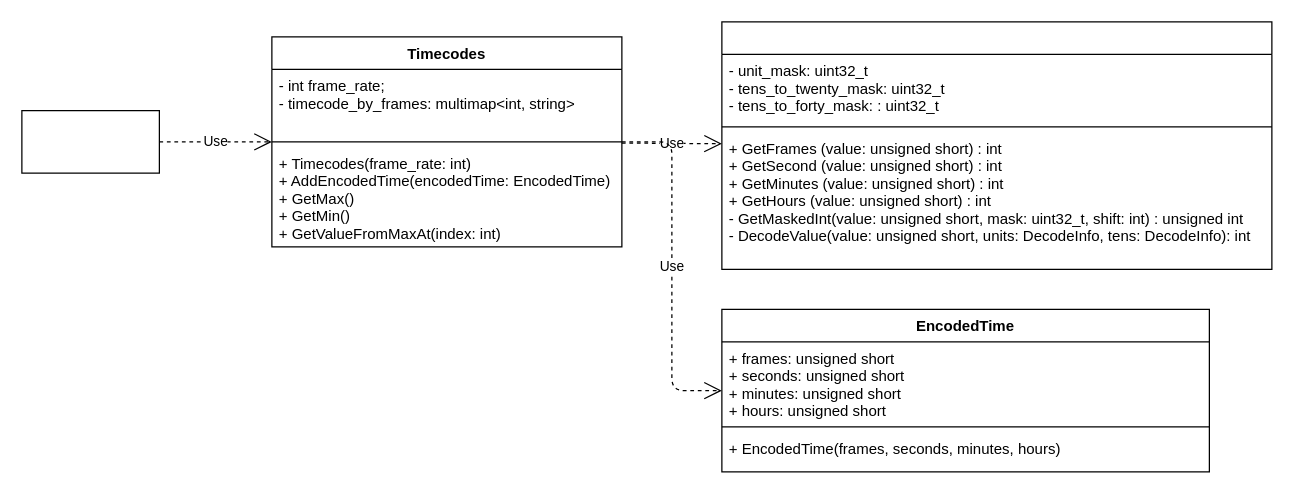
The diagram is 1294 pixels wide and 498 high, and some of its shapes have lost their labels. Each missing label, with the box of its shape:
main(): (21, 109, 159, 173)
TimeDecoder: (721, 21, 1272, 269)
